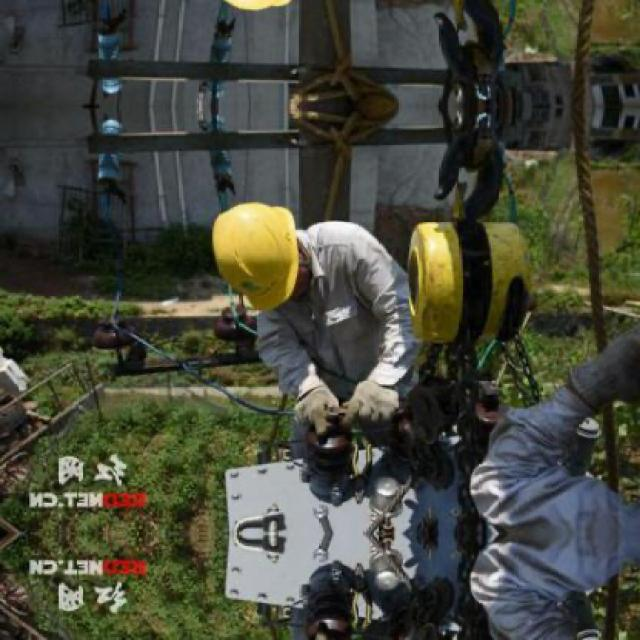helmet: (206, 198, 309, 312)
